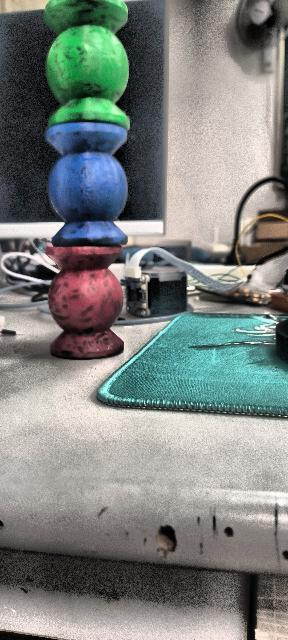blue: (46, 120, 128, 246)
green: (38, 0, 140, 126)
red: (42, 243, 125, 363)
